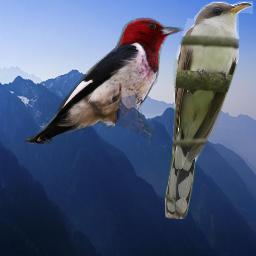Cuckoo: (165, 1, 253, 219)
Woodpecker: (20, 16, 187, 144)
